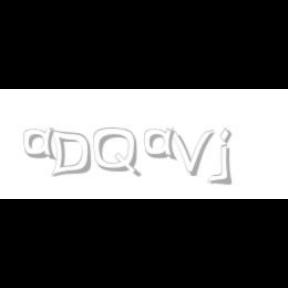D: (48, 128, 92, 178)
Q: (93, 128, 139, 178)
V: (167, 128, 215, 176)
a: (144, 128, 181, 160), (24, 128, 60, 160)
j: (218, 128, 246, 186)
